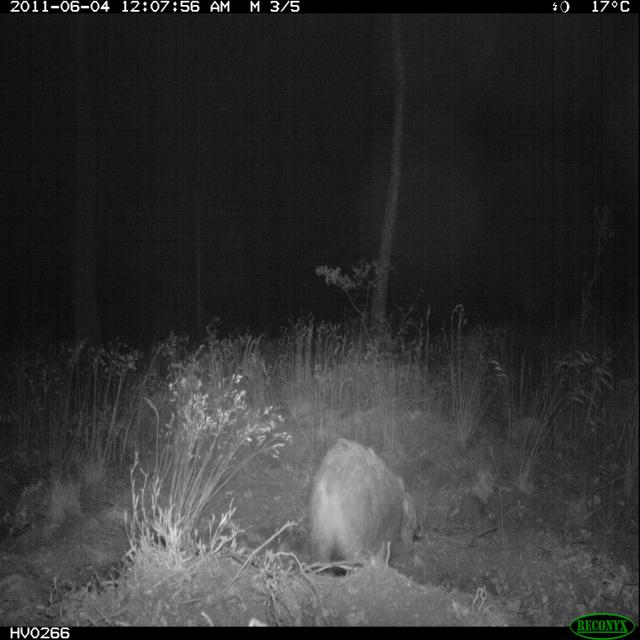boar: (298, 389, 426, 584)
